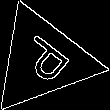P_SE: (10, 30, 75, 90)
